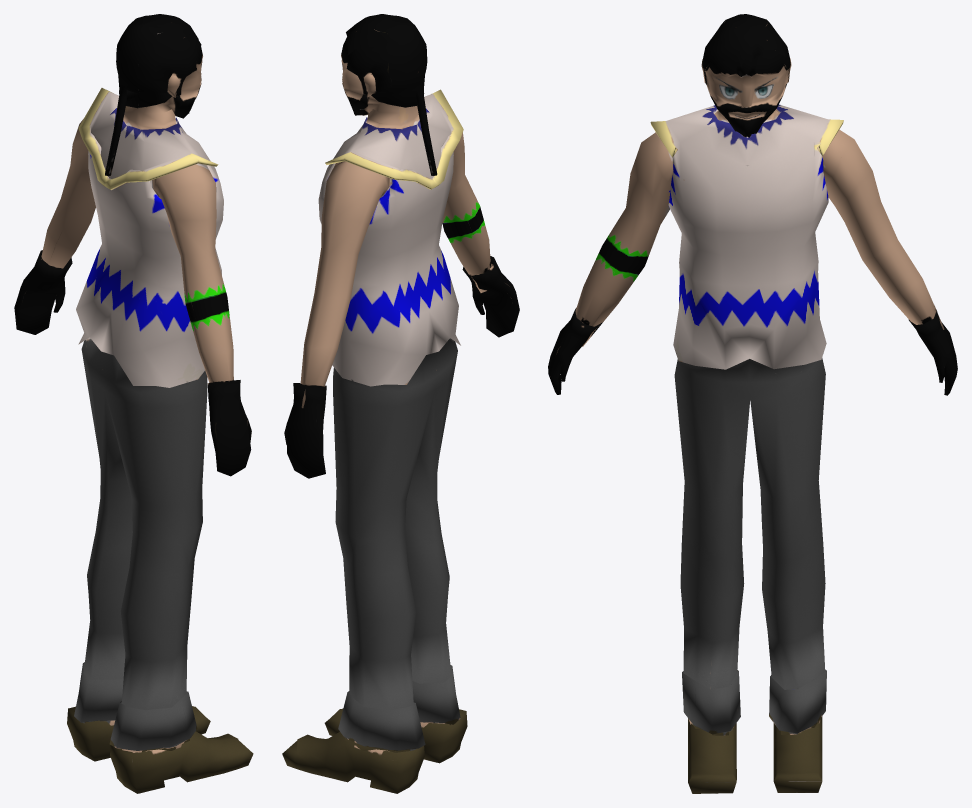
The model's file is JefeDeLaAldeaV2Mixamo.fbx.
3 views of the same model, side by side, from view 1: azimuth 30°, elevation 25°; view 2: azimuth 150°, elevation 25°; view 3: azimuth 270°, elevation 25° (orthographic).
Parts seen in each view (by area): view 1: Cube; view 2: Cube; view 3: Cube.
Boxes of the visible parts, left/top/right/bottom form: Cube: left=14, top=14, right=253, bottom=793; Cube: left=282, top=14, right=519, bottom=793; Cube: left=548, top=14, right=957, bottom=793.
Size of the model in its own units: 59.07 by 336 by 168.
Materials: 1 (1 with a texture image).
